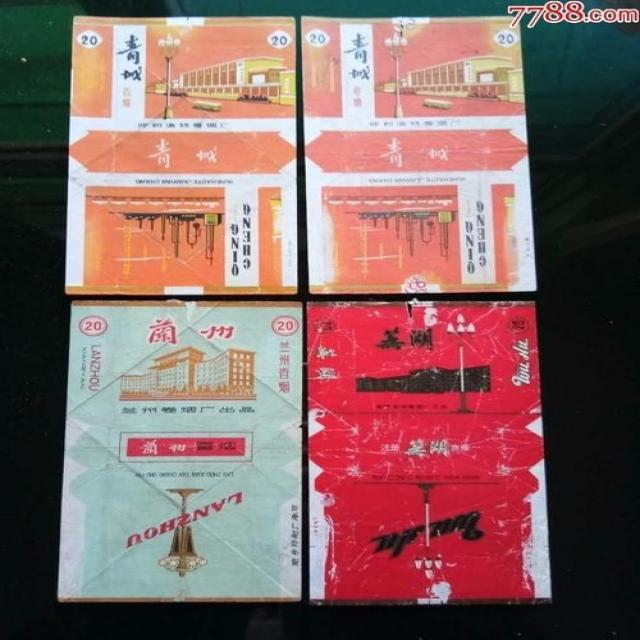box: (306, 301, 552, 605), (58, 299, 303, 603), (301, 15, 539, 294), (65, 15, 298, 296)
